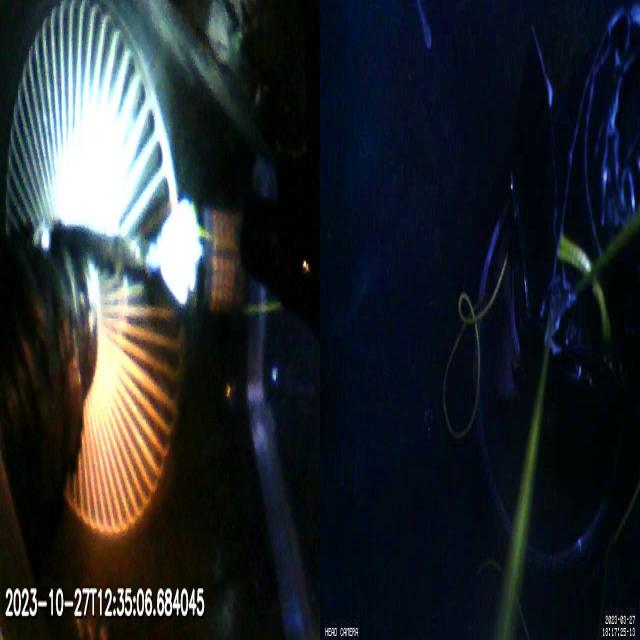head: (161, 200, 248, 309)
